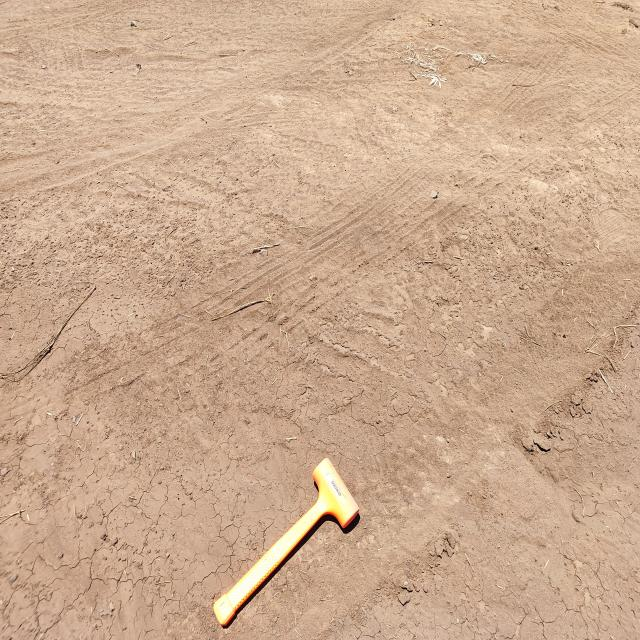Orange_hammer: (212, 456, 360, 627)
